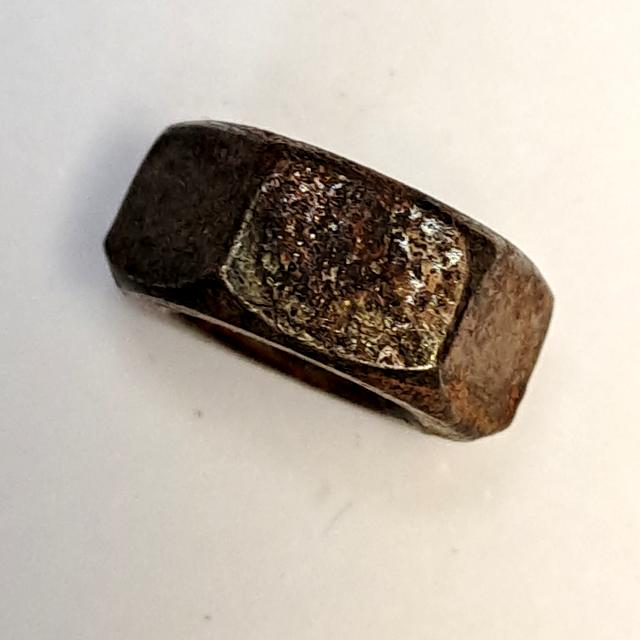Side_Rust: (83, 98, 565, 456)
